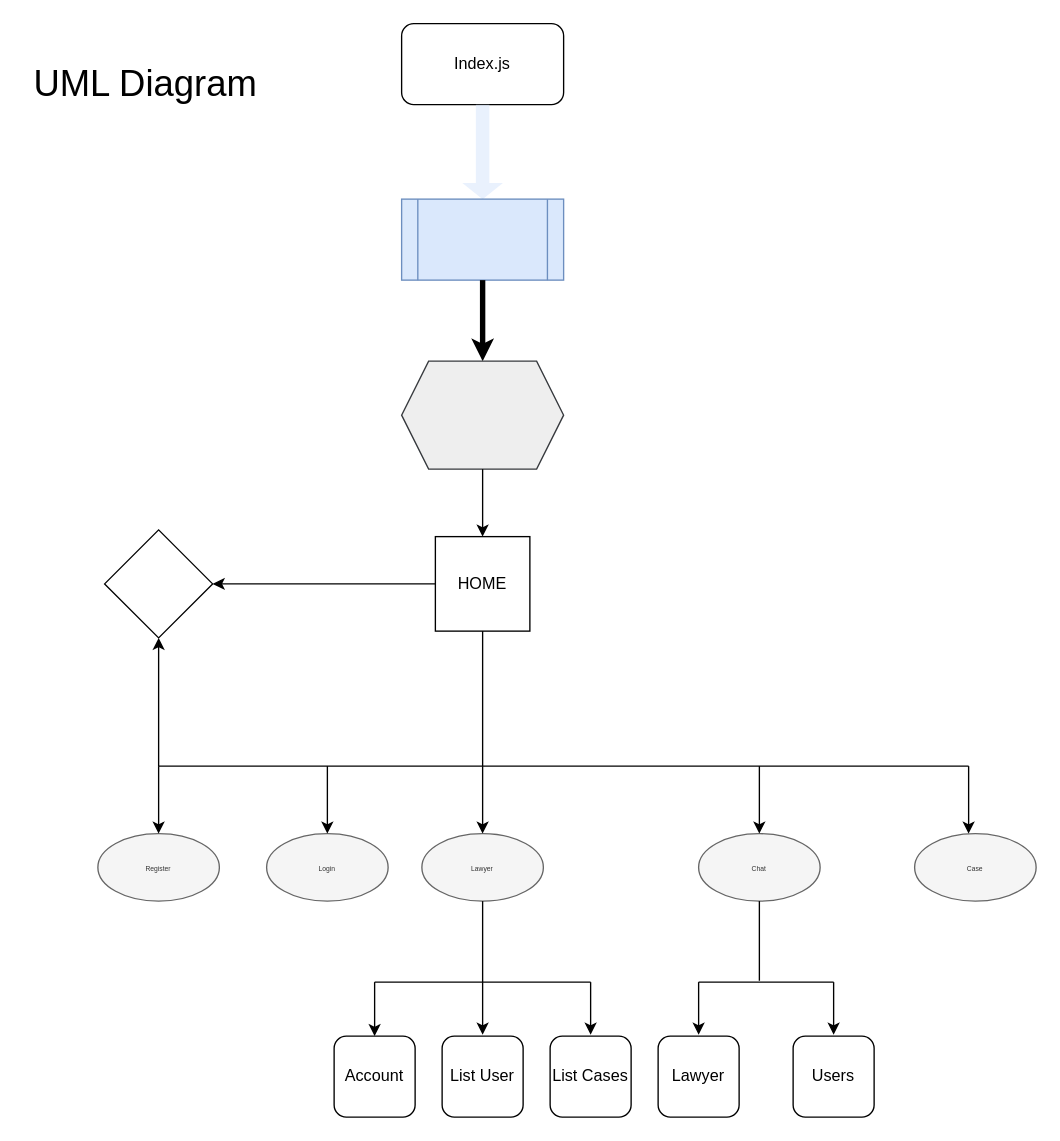
Image size: 1060x1141. Some labels were removed from this diagram. The centre of each missing label's shape, as x and y in pixels:
"App.js" goes at point (482, 239).
"Component" goes at point (482, 414).
"Navbar" goes at point (158, 583).
